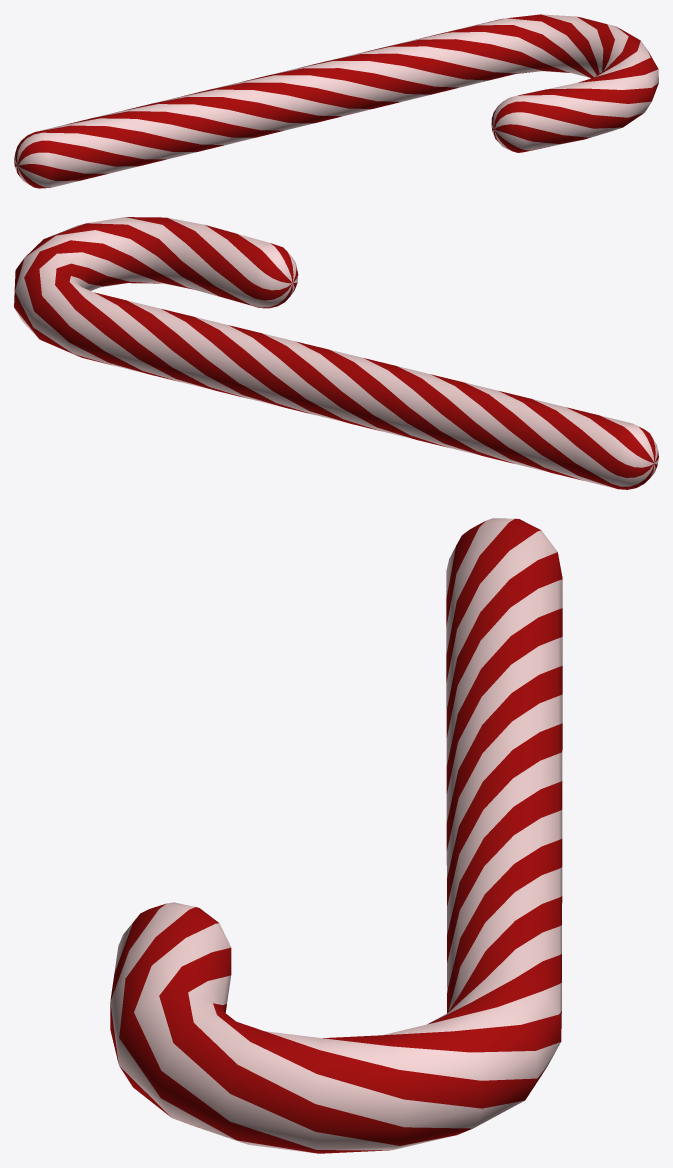
File: candy.fbx
The picture shows the model from 3 angles, top to bottom: view 1: azimuth 30°, elevation 25°; view 2: azimuth 150°, elevation 25°; view 3: azimuth 270°, elevation 25°; orthographic projection. The views are drawn at different scales.
Visible parts, largest first — view 1: Capsule001; view 2: Capsule001; view 3: Capsule001.
Boxes of the visible parts, left/top/right/bottom form: Capsule001: left=14, top=14, right=658, bottom=188; Capsule001: left=14, top=217, right=658, bottom=489; Capsule001: left=110, top=518, right=562, bottom=1153.
Bounding box in the file's own units: 39.46 × 3.41 × 13.26.
